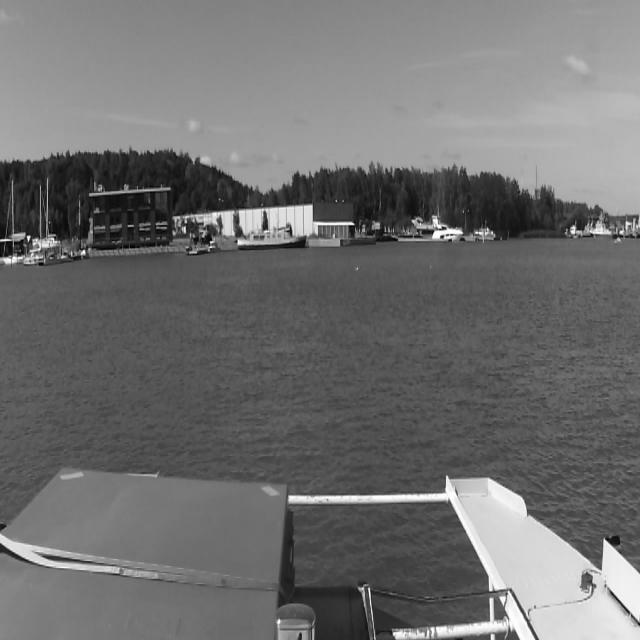ship: (29, 177, 53, 269), (237, 226, 307, 255), (432, 215, 464, 247), (592, 217, 614, 242)
